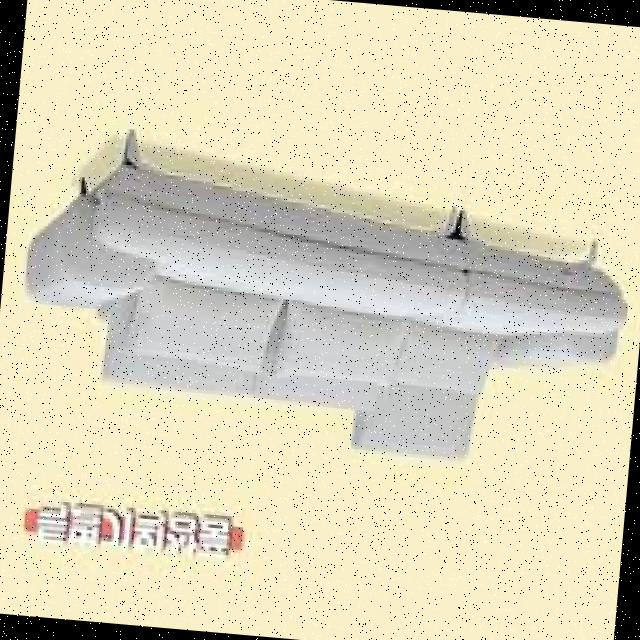Sofa: (7, 98, 640, 499)
